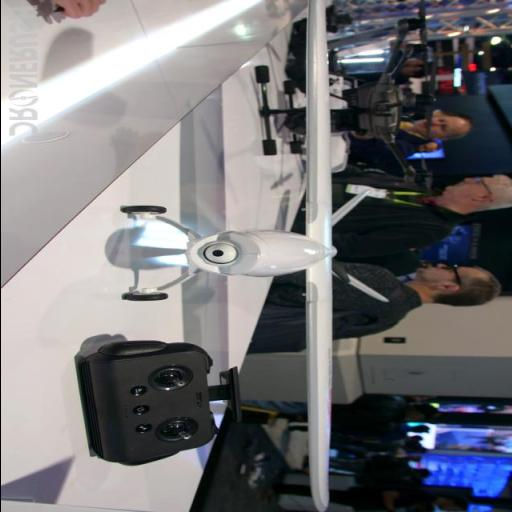uav: (120, 0, 366, 509)
